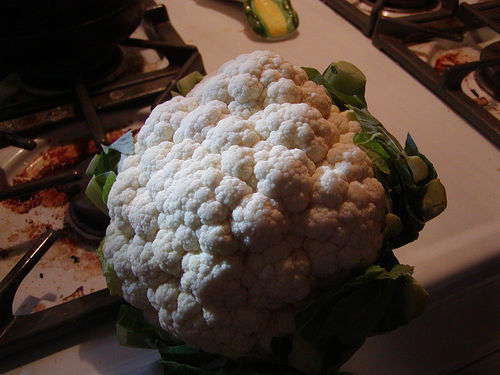cauliflower: (88, 51, 446, 374)
